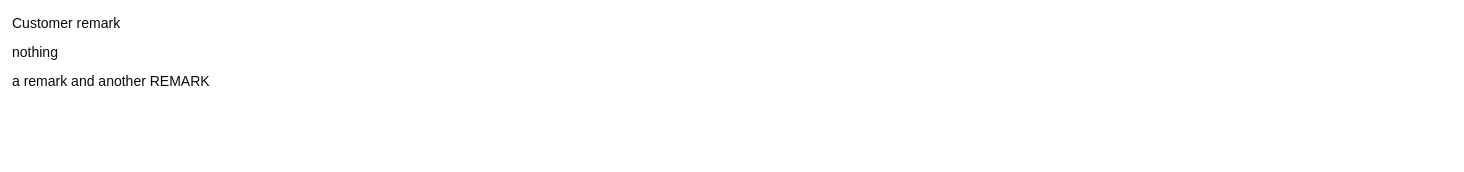
find in a note › Enter goes to the next match, Shift+Enter the previous, both wrapping round
The image size is (1464, 172).
Press f
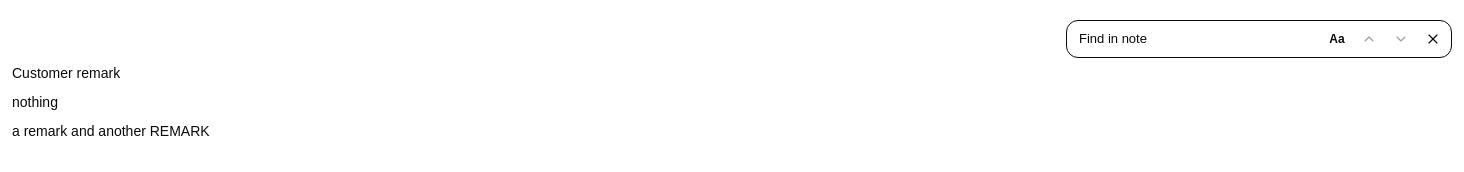
In the field labelled "Find in note": {"x": 1169, "y": 39} [1079,29,1259,49], type "remark"
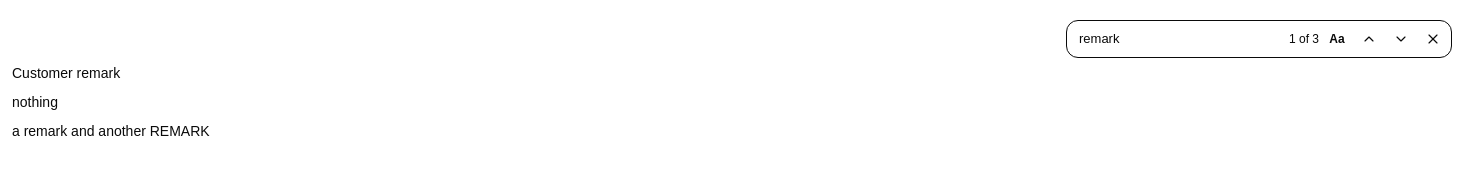
Press Enter in the field named "Find in note", box [1079,29,1259,49]
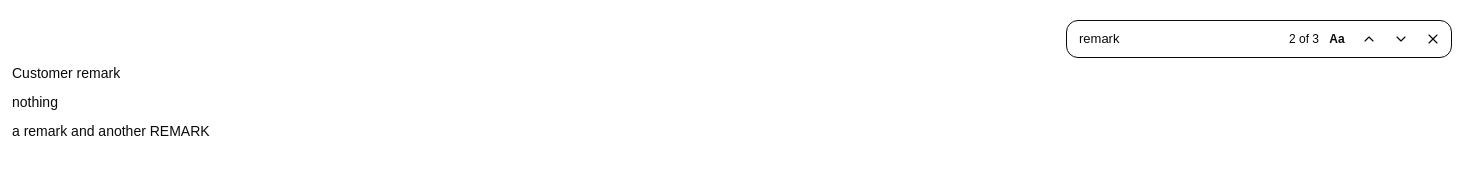
Check: the text "2 of 3" is shown, box [1289,32,1319,46]
Press Enter in the field named "Find in note", box [1079,29,1259,49]
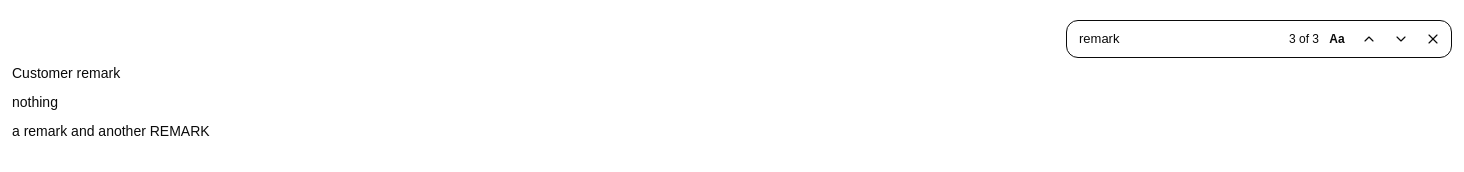
Press Enter in the field named "Find in note", box [1079,29,1259,49]
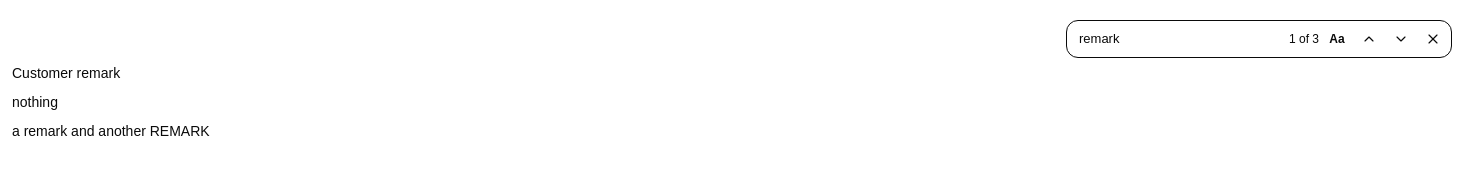
Check: the text "1 of 3" is shown, box [1289,32,1319,46]
Press Enter in the field named "Find in note", box [1079,29,1259,49]
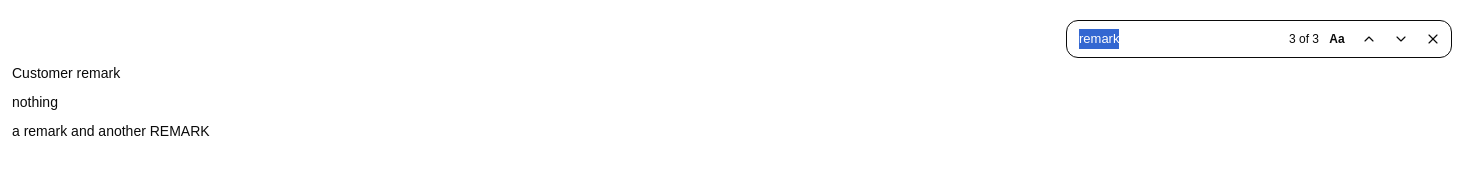
Check: the text "3 of 3" is shown, box [1289,32,1319,46]
